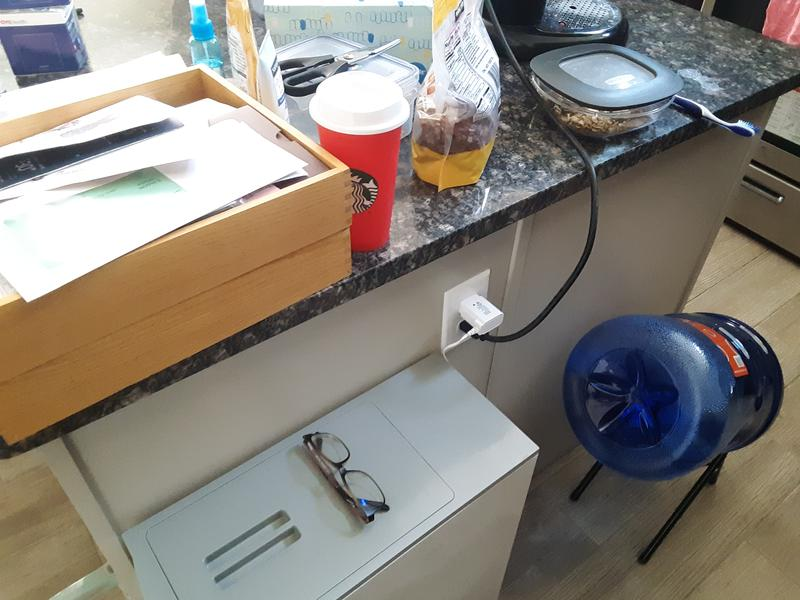glasses: (301, 430, 391, 526)
